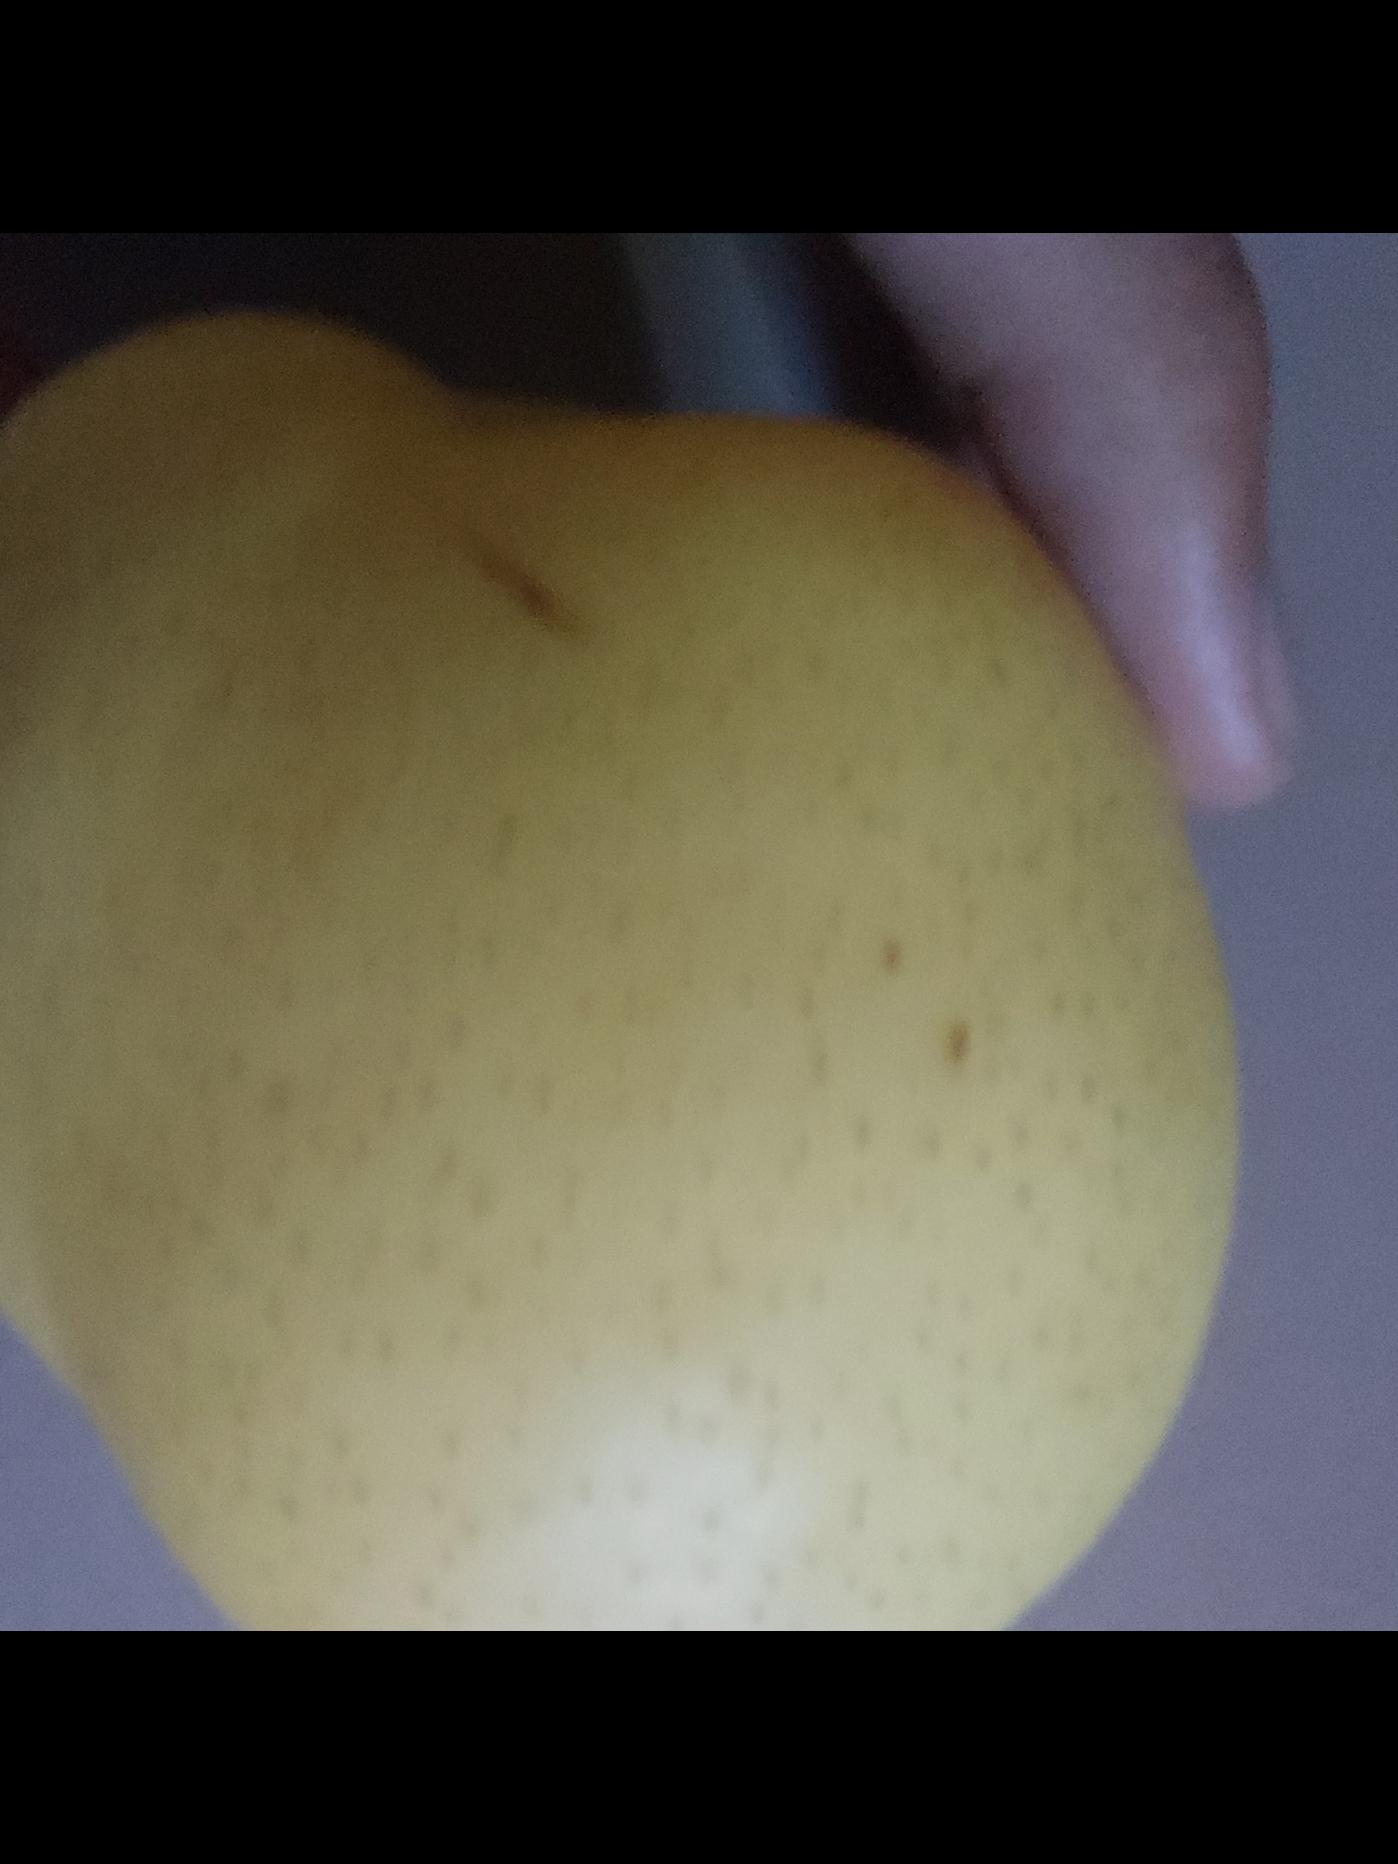Good Pear: (0, 314, 1245, 1631)
